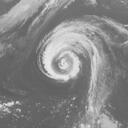cyclone: (36, 17, 103, 83)
